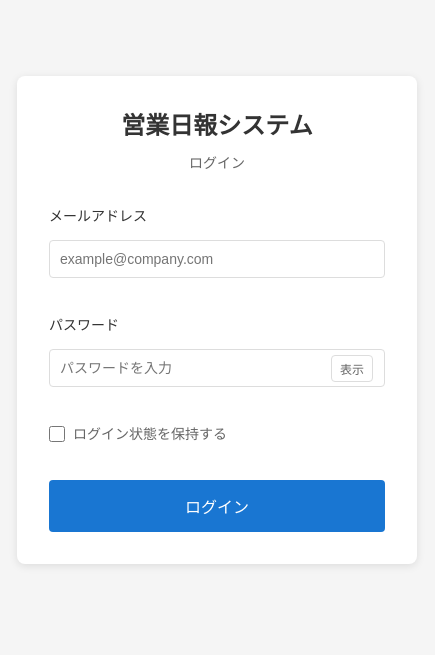
LoginPage › should show validation error for empty email
This screenshot has width=435, height=655.
Click the button "ログイン" at (217, 506), box [49,480,385,532]
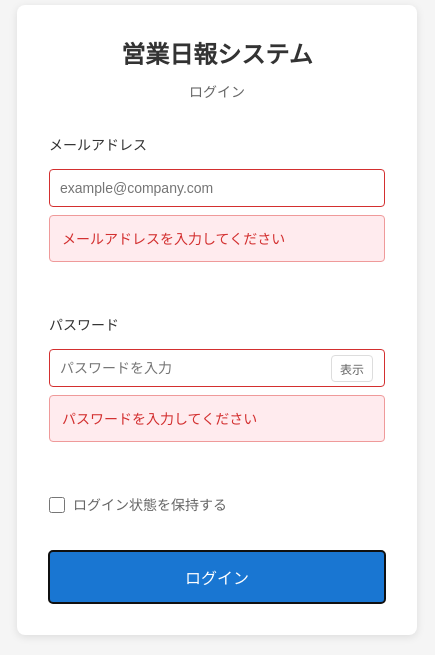
Check: the text "メールアドレスを入力してください" is shown, box [49,215,385,262]
